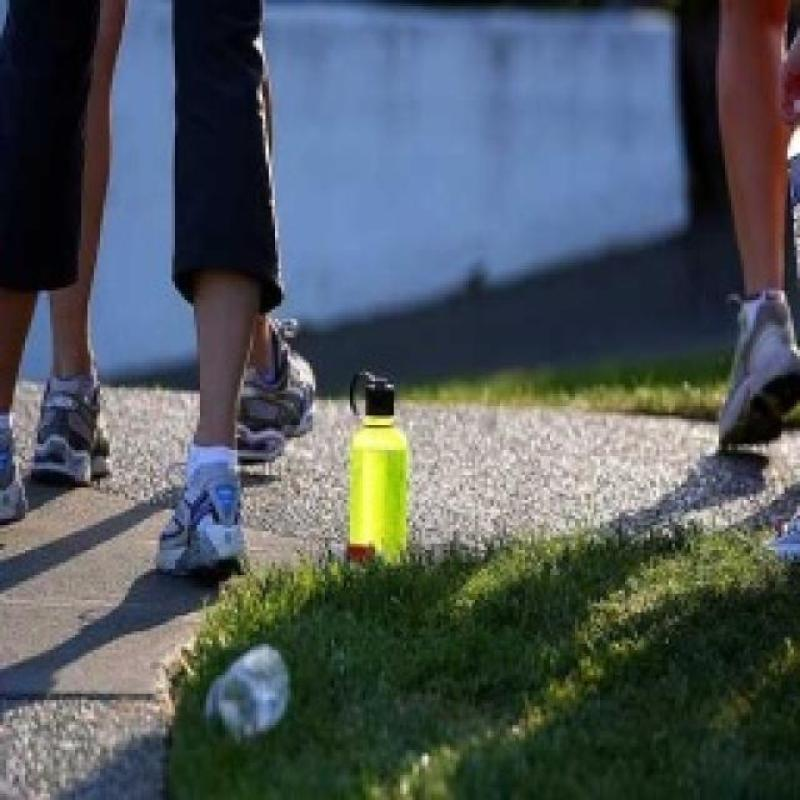botella: (199, 647, 299, 734)
